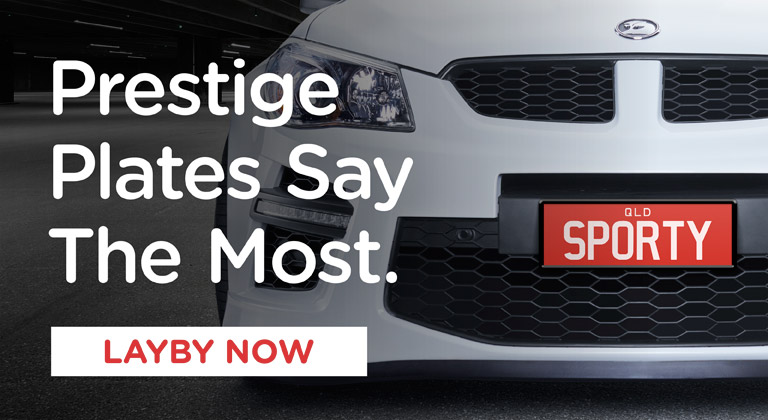license plate: (536, 199, 737, 270)
